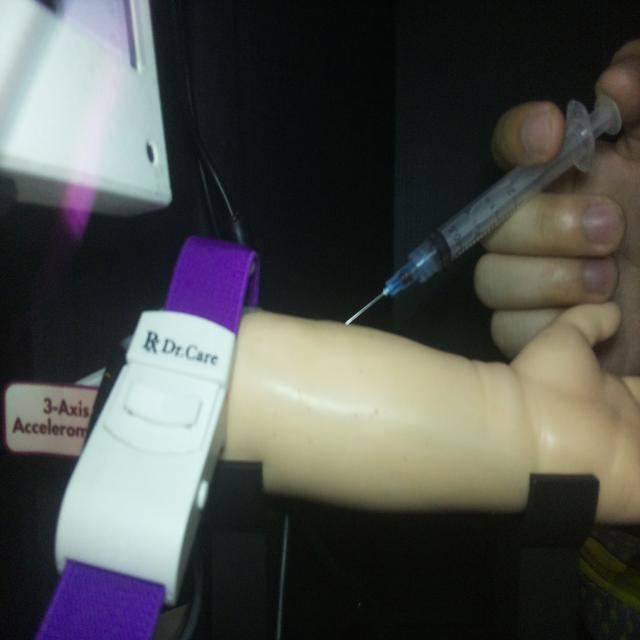29 degrees: (342, 90, 622, 328)
